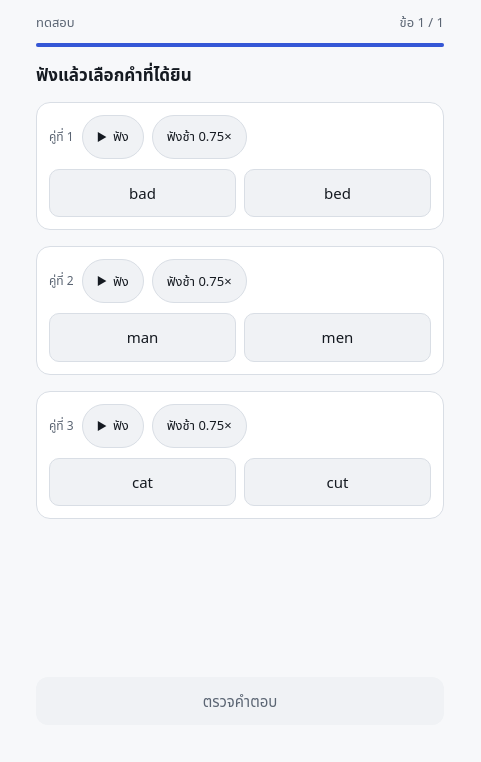
Scenario: one primary action at a time (days 1-7, every exercise) › d001-pron-02
Expected: the button "ตรวจคำตอบ" is disabled, [36,676,444,725]
Click the radio button labelled "bad": (142, 193) [49,169,236,217]
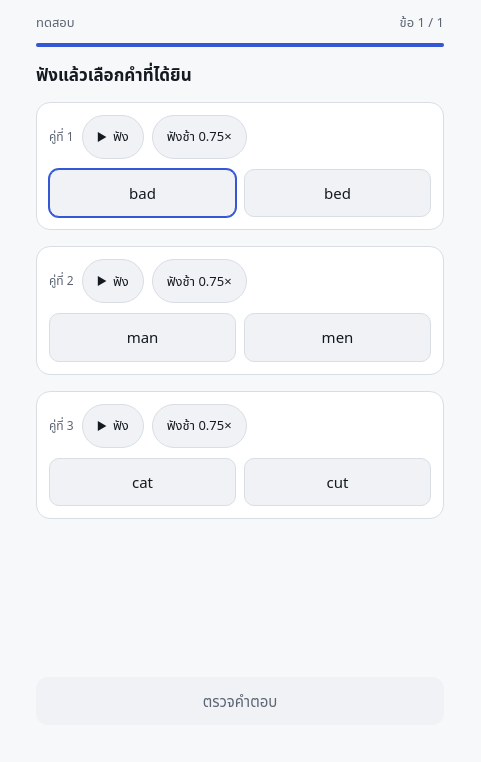
Click the radio button labelled "men": (338, 338) [244,313,431,362]
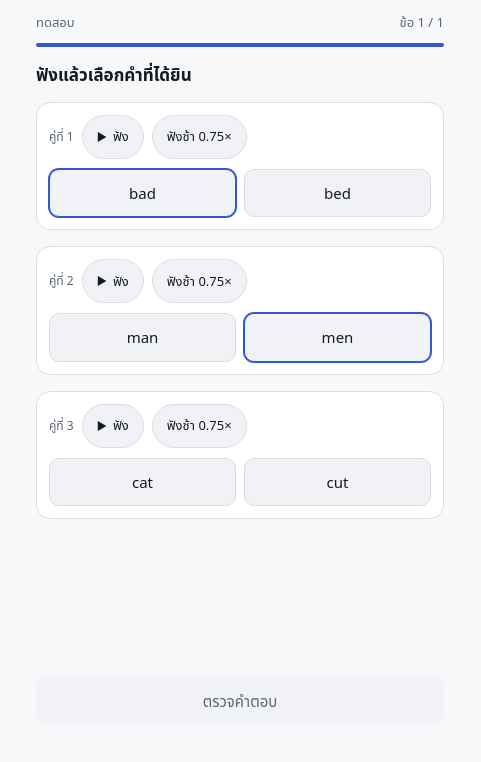
Click the radio button labelled "cat": (142, 482) [49,458,236,506]
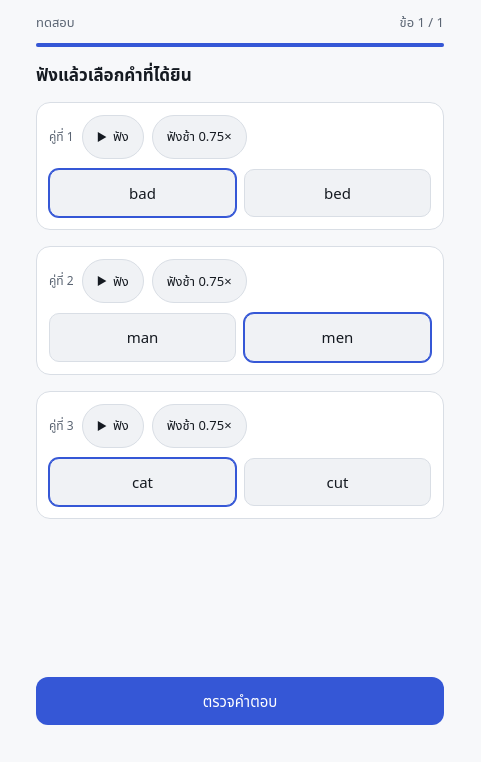
Now the button "ตรวจคำตอบ" is enabled
Click the button "ตรวจคำตอบ": (240, 701) [36,676,444,725]
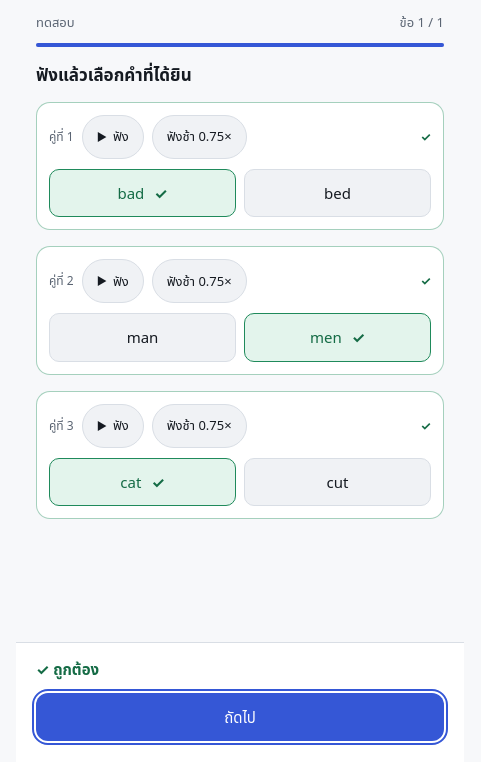
Now the button "ถัดไป" is enabled, box [36,692,444,741]
Now no buttons "ตรวจคำตอบ" are shown
Now the message "✓ ถูกต้อง" is not empty, box [36,658,99,678]
